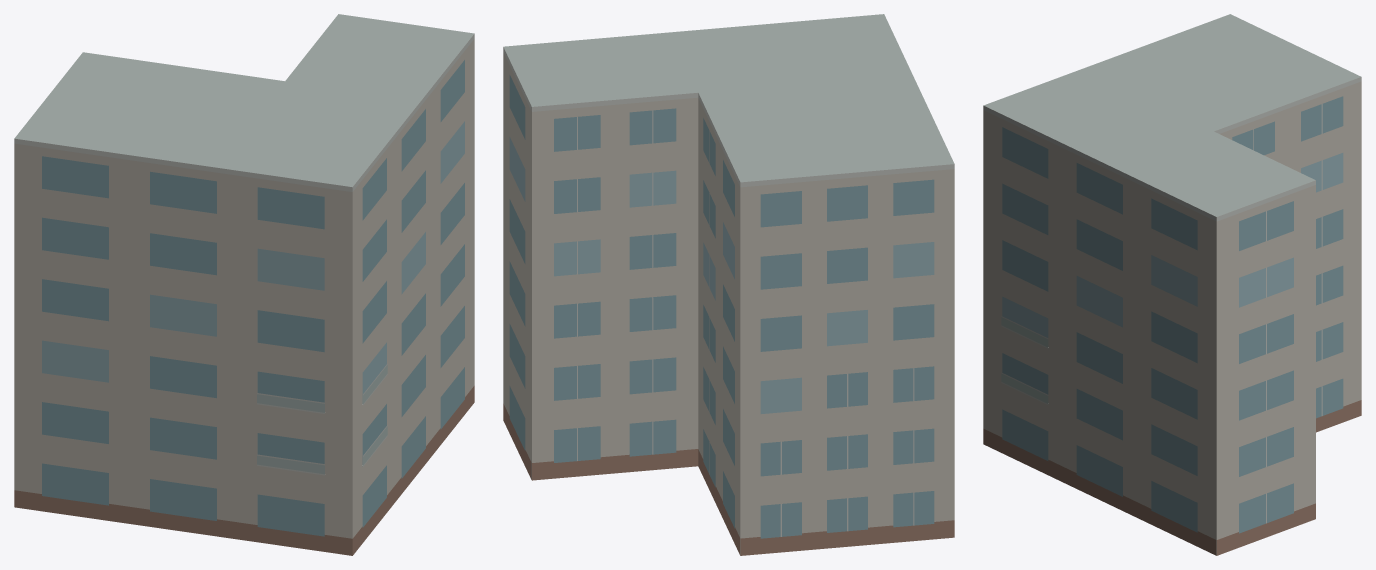
The model's file is survey-upis-32910387.glb.
3 views of the same model, side by side, from view 1: azimuth 30°, elevation 25°; view 2: azimuth 150°, elevation 25°; view 3: azimuth 270°, elevation 25° (orthographic). The views are drawn at different scales.
Parts seen in each view (by area): view 1: survey-upis-32910387.tmp; view 2: survey-upis-32910387.tmp; view 3: survey-upis-32910387.tmp.
Part boxes in pixels (left/top/right/bottom): survey-upis-32910387.tmp: left=14, top=14, right=474, bottom=555; survey-upis-32910387.tmp: left=503, top=14, right=954, bottom=555; survey-upis-32910387.tmp: left=983, top=14, right=1361, bottom=555.
Bounding box in the file's own units: 23.54 × 18.3 × 18.52.
